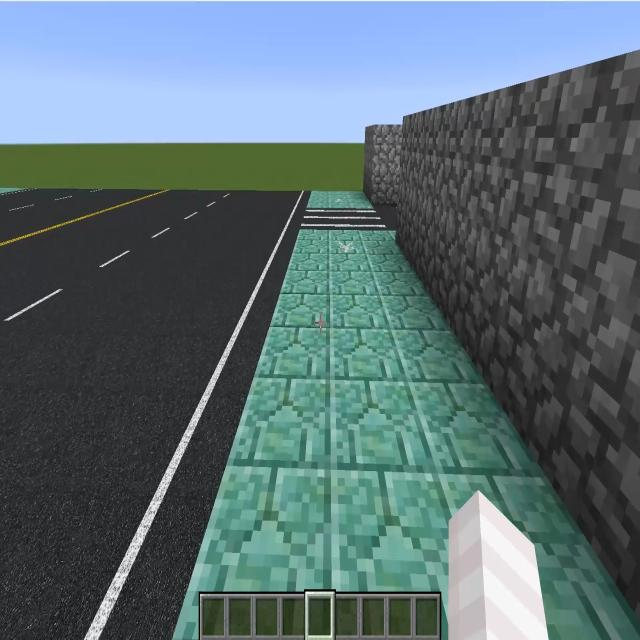crosswalk: (302, 209, 390, 228)
road: (2, 190, 311, 637), (378, 201, 399, 226)
sidewalk: (173, 226, 638, 639), (307, 190, 373, 209)
